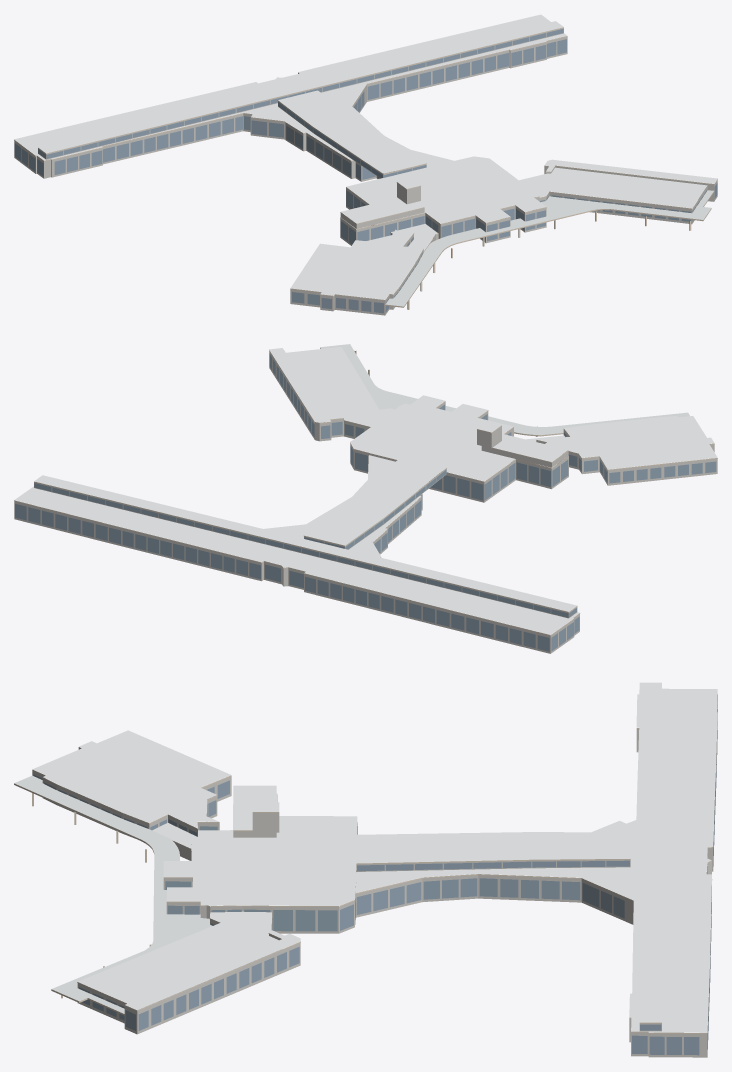
File: dal-love-field-terminal.glb
3 views of the same model, one above another, from view 1: azimuth 30°, elevation 25°; view 2: azimuth 150°, elevation 25°; view 3: azimuth 270°, elevation 25° (orthographic). The views are drawn at different scales.
Visible parts, largest first — view 1: Dallas Love Field Terminal; view 2: Dallas Love Field Terminal; view 3: Dallas Love Field Terminal.
Boxes of the visible parts, box(x1,y1,x2,y2) form: Dallas Love Field Terminal: box(14, 14, 717, 315); Dallas Love Field Terminal: box(14, 344, 717, 653); Dallas Love Field Terminal: box(14, 682, 717, 1057).
Bounding box in the file's own units: 367 × 27.8 × 318.
